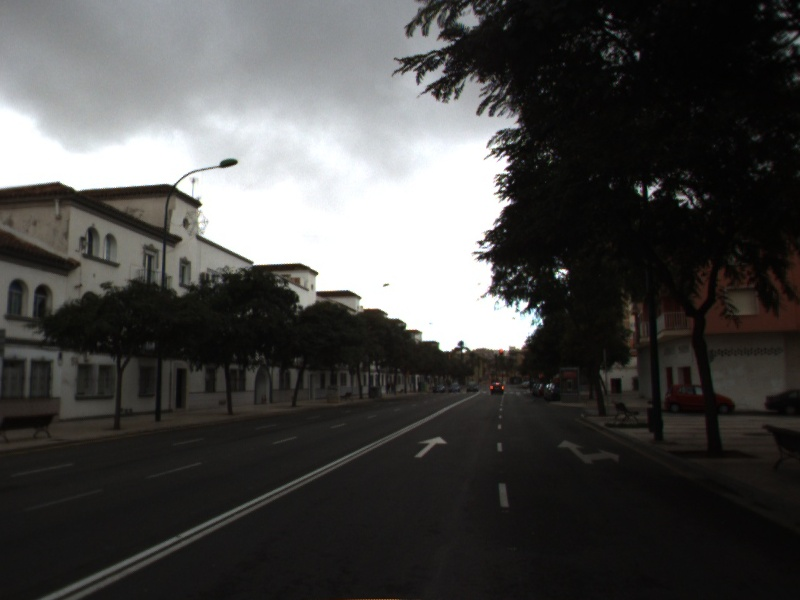STRAIGHT: (413, 435, 449, 458)
STRAIGHT_RIGHT: (556, 438, 621, 465)
